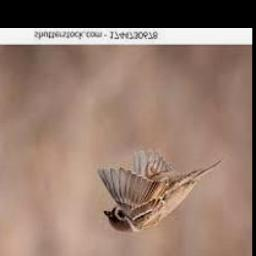Sparrow: (98, 148, 223, 233)
